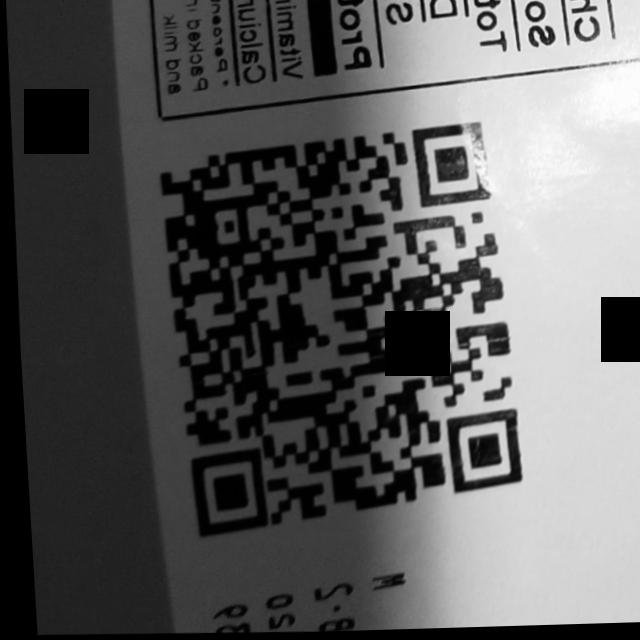QR_CODE: (133, 109, 539, 555)
